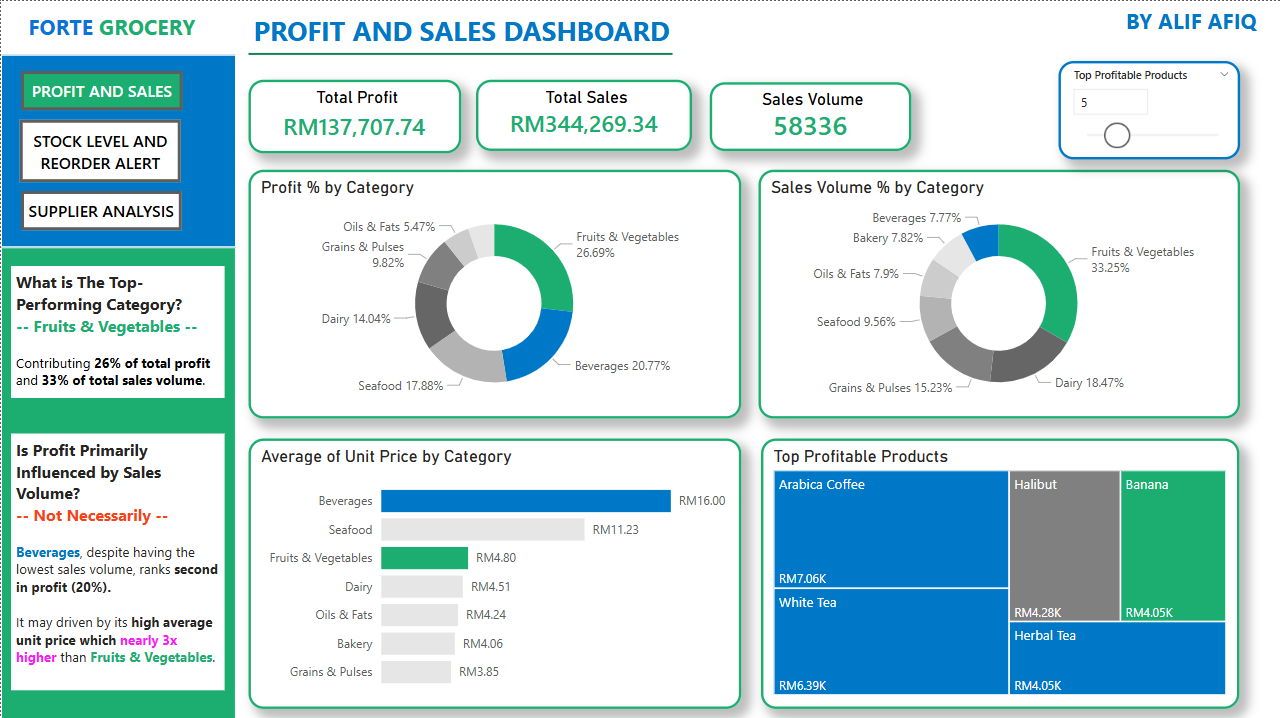

What the dashboard file says about the page in this screenshot:
{"tool":"powerbi","page":{"name":"PROFIT AND SALES","canvas":[1280,720],"ordinal":0},"visuals":[{"type":"shape","box":[0,246.2,235,473.8],"z":0},{"type":"shape","box":[0,53.8,235,192.5],"z":1000},{"type":"textbox","box":[22.5,6.2,190,45],"z":2000},{"type":"card","title":"Total Sales","fields":{"Values":["Forte_Grocery.Total Sales"]},"box":[475,78.8,216.2,71.2],"z":3000},{"type":"card","title":"Total Profit","fields":{"Values":["Forte_Grocery.Total Profit"]},"box":[247.5,78.8,212.5,73.8],"z":4000},{"type":"card","title":"Sales Volume","fields":{"Values":["Sum(Forte_Grocery.Sales_Volume)"]},"box":[708.8,81.2,201.2,68.8],"z":5000},{"type":"textbox","box":[248.1,6,437.5,53.9],"z":6000},{"type":"donutChart","title":"Profit % by Category","fields":{"Category":["Forte_Grocery.Category"],"Y":["Key Measures.Total Profit"]},"box":[247.5,168.8,492.5,248.8],"z":7000},{"type":"donutChart","title":"Sales Volume % by Category","fields":{"Category":["Forte_Grocery.Category"],"Y":["Sum(Forte_Grocery.Sales_Volume)"],"Series":["Forte_Grocery.Category"]},"box":[757.5,168.8,481.2,248.8],"z":8000},{"type":"shape","box":[248.1,33.6,424.3,38.4],"z":9000},{"type":"clusteredBarChart","title":"Average of Unit Price by Category","fields":{"Category":["Forte_Grocery.Category"],"Y":["Avg(Forte_Grocery.Unit_Price)"]},"box":[247.5,437.5,492.5,270],"z":10000},{"type":"treemap","title":"Top Profitable Products","fields":{"Group":["Forte_Grocery.Product_Name"],"Values":["Key Measures.Total Profit"]},"box":[760,437.5,478.8,270],"z":11000},{"type":"slicer","fields":{"Values":["Top Products Value.Top Products Value"]},"box":[1057.5,60,181.2,98.8],"z":12000},{"type":"actionButton","box":[18.8,118.8,161.2,62.5],"z":13000},{"type":"actionButton","box":[20.4,190.6,160.6,39.6],"z":14000},{"type":"actionButton","box":[20.4,69.5,161.8,39.6],"z":15000},{"type":"textbox","box":[10.2,264.6,213.7,132.3],"z":16000},{"type":"textbox","box":[10.2,431.9,213.7,256.7],"z":17000},{"type":"textbox","box":[1120,0,160,45],"z":17001}]}

Visuals, with their boxes in screenshot pixels (x1, y1, x2, y2), scaled from the page's 1280x720 canvas onto the 1280x718 screenshot:
shape: 0,246,235,717
shape: 0,54,235,246
textbox: 22,6,212,51
"Total Sales" card: 475,79,691,150
"Total Profit" card: 248,79,460,152
"Sales Volume" card: 709,81,910,150
textbox: 248,6,686,60
"Profit % by Category" donutChart: 248,168,740,416
"Sales Volume % by Category" donutChart: 758,168,1239,416
shape: 248,34,672,72
"Average of Unit Price by Category" clusteredBarChart: 248,436,740,706
"Top Profitable Products" treemap: 760,436,1239,706
slicer - Top Products Value.Top Products Value: 1058,60,1239,158
actionButton: 19,118,180,181
actionButton: 20,190,181,230
actionButton: 20,69,182,109
textbox: 10,264,224,396
textbox: 10,431,224,687
textbox: 1120,0,1279,45
